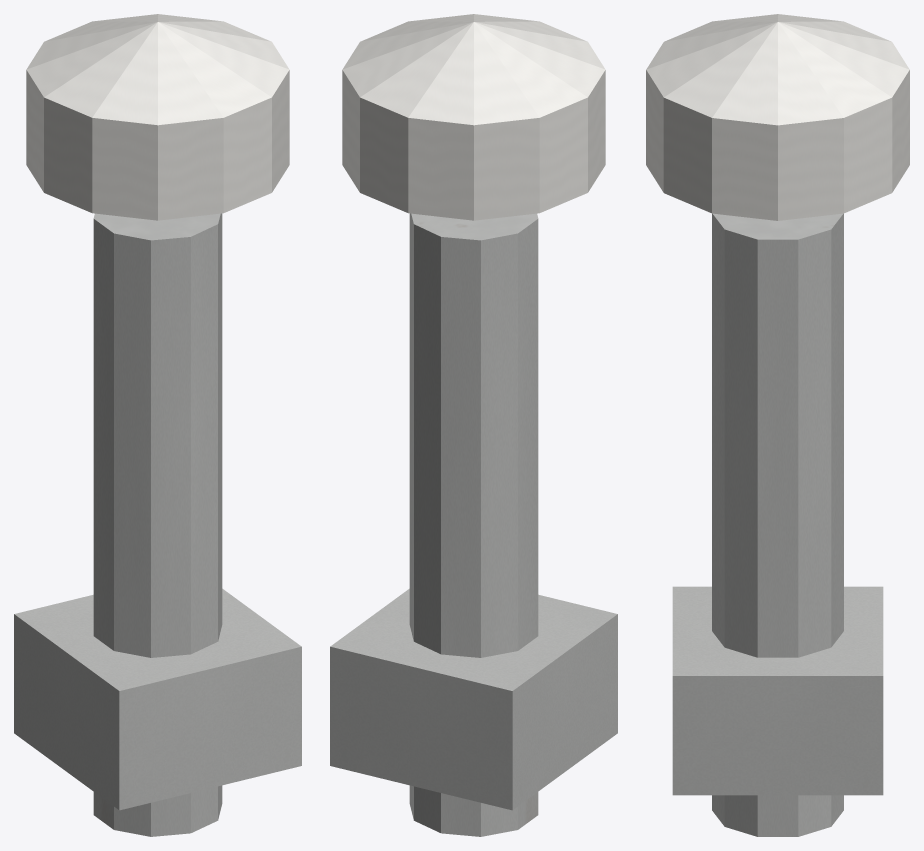
The model's file is lever.gltf.
The picture shows the model from 3 angles, left to right: view 1: azimuth 30°, elevation 25°; view 2: azimuth 150°, elevation 25°; view 3: azimuth 270°, elevation 25°; orthographic projection.
Visible parts, largest first — view 1: jx_lever; view 2: jx_lever; view 3: jx_lever.
Boxes of the visible parts, x1=… form: jx_lever: x1=14, y1=14, x2=301, y2=836; jx_lever: x1=330, y1=14, x2=617, y2=836; jx_lever: x1=646, y1=14, x2=909, y2=836.
Bounding box in the file's own units: 0.2 × 0.66 × 0.2.
Materials: 2 (2 with a texture image).
